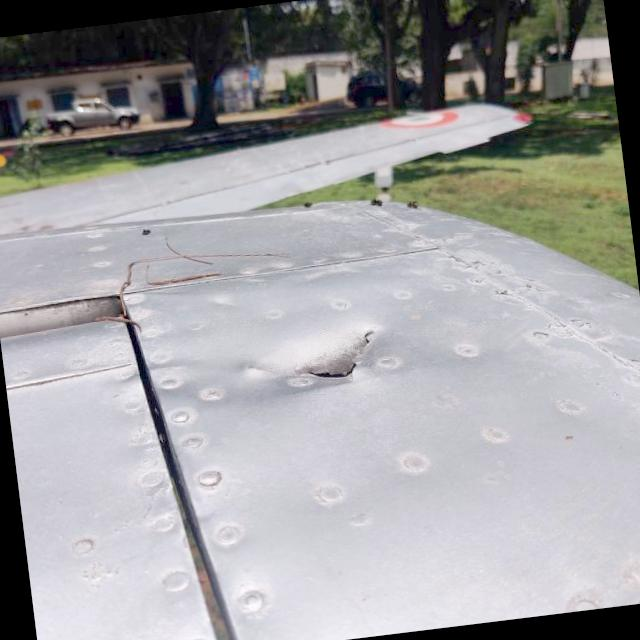crack: (234, 300, 413, 418)
